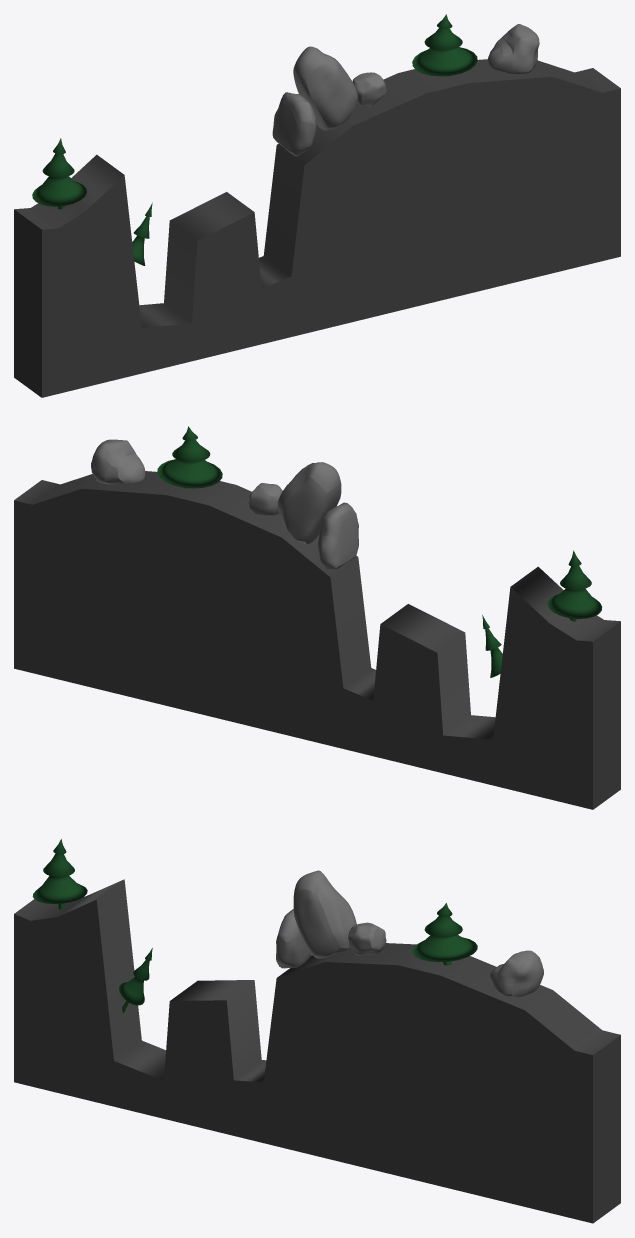
Rendered from Chasm_L_1.fbx.
3 views of the same model, one above another, from view 1: azimuth 30°, elevation 25°; view 2: azimuth 150°, elevation 25°; view 3: azimuth 330°, elevation 25° (orthographic).
Visible parts, largest first — view 1: pCube1, Cactus:pCube2, trees:pCylinder3, Cactus:pCube1, Cactus:pCube4, trees:pCylinder2, Cactus:pCube3, trees:pCylinder4; view 2: pCube1, Cactus:pCube2, trees:pCylinder3, Cactus:pCube1, Cactus:pCube4, trees:pCylinder2, Cactus:pCube3, trees:pCylinder4; view 3: pCube1, Cactus:pCube2, trees:pCylinder3, Cactus:pCube4, trees:pCylinder2, Cactus:pCube1, Cactus:pCube3, trees:pCylinder4.
Part boxes in pixels (left/top/right/bottom): pCube1: left=14, top=59, right=620, bottom=397; Cactus:pCube2: left=293, top=46, right=357, bottom=130; trees:pCylinder3: left=412, top=14, right=477, bottom=76; Cactus:pCube1: left=272, top=92, right=316, bottom=156; Cactus:pCube4: left=488, top=24, right=539, bottom=73; trees:pCylinder2: left=32, top=138, right=86, bottom=209; Cactus:pCube3: left=352, top=72, right=386, bottom=106; trees:pCylinder4: left=132, top=202, right=152, bottom=265; pCube1: left=14, top=471, right=620, bottom=809; Cactus:pCube2: left=277, top=462, right=341, bottom=543; trees:pCylinder3: left=157, top=426, right=222, bottom=488; Cactus:pCube1: left=318, top=502, right=358, bottom=569; Cactus:pCube4: left=91, top=439, right=145, bottom=484; trees:pCylinder2: left=547, top=550, right=601, bottom=621; Cactus:pCube3: left=248, top=483, right=282, bottom=516; trees:pCylinder4: left=482, top=615, right=502, bottom=677; pCube1: left=14, top=879, right=620, bottom=1223; Cactus:pCube2: left=293, top=870, right=356, bottom=958; trees:pCylinder3: left=412, top=903, right=477, bottom=965; Cactus:pCube4: left=489, top=950, right=543, bottom=996; trees:pCylinder2: left=32, top=839, right=87, bottom=909; Cactus:pCube1: left=276, top=909, right=311, bottom=968; Cactus:pCube3: left=348, top=922, right=386, bottom=955; trees:pCylinder4: left=119, top=948, right=152, bottom=1013.
Size of the model in its own units: 36 by 16.13 by 3.56.
